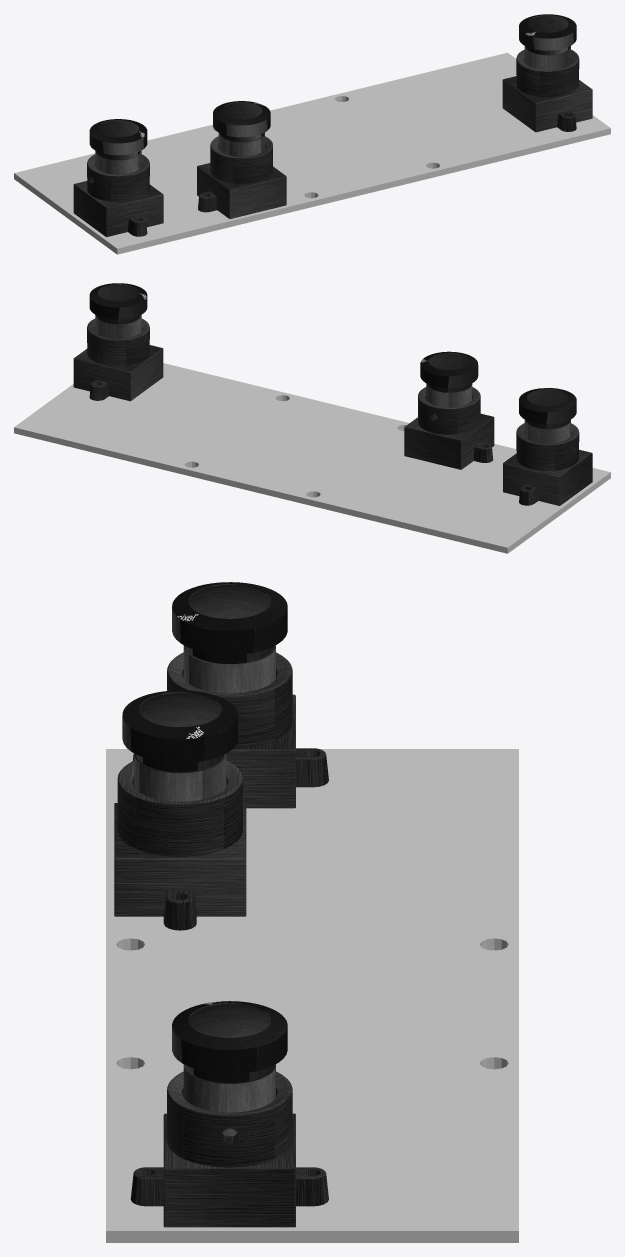
File: ovc3.dae
3 renders of one model, top to bottom at view 1: azimuth 30°, elevation 25°; view 2: azimuth 150°, elevation 25°; view 3: azimuth 270°, elevation 25°, orthographic. The views are drawn at different scales.
Parts seen in each view (by area): view 1: node3, node4, node6, node5, node2, node1, node0; view 2: node3, node4, node5, node6, node1, node0, node2; view 3: node3, node5, node4, node0, node2, node1, node6.
Part boxes in pixels (<box>): node3: <box>14,52,610,254</box>; node4: <box>197,136,286,218</box>; node6: <box>73,154,163,236</box>; node5: <box>502,49,592,132</box>; node2: <box>89,119,147,174</box>; node1: <box>213,101,270,156</box>; node0: <box>519,14,576,69</box>; node3: <box>14,363,610,553</box>; node4: <box>404,387,494,469</box>; node5: <box>73,318,163,401</box>; node6: <box>503,423,592,505</box>; node1: <box>420,351,478,417</box>; node0: <box>89,283,147,338</box>; node2: <box>519,388,576,443</box>; node3: <box>106,749,518,1242</box>; node5: <box>130,1071,328,1227</box>; node4: <box>114,760,246,930</box>; node0: <box>172,1001,287,1136</box>; node2: <box>172,582,287,693</box>; node1: <box>122,690,237,801</box>; node6: <box>133,652,328,808</box>.
Size of the model in its own units: 0.138 by 0.05 by 0.0263.
